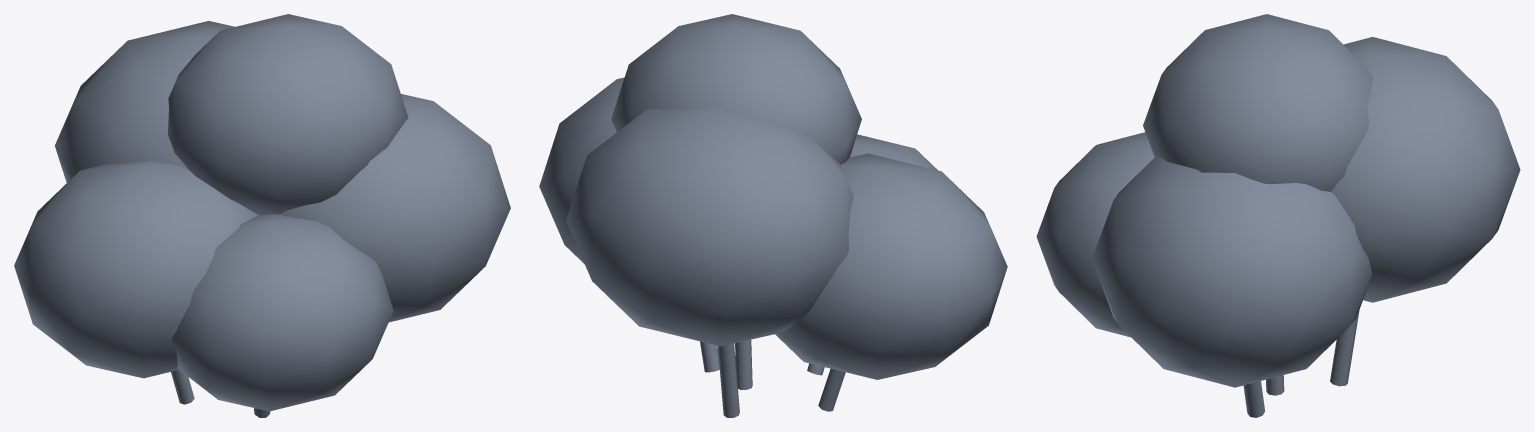
The model's file is garden-shrub-lite.glb.
3 renders of one model, left to right at view 1: azimuth 30°, elevation 25°; view 2: azimuth 150°, elevation 25°; view 3: azimuth 270°, elevation 25°, orthographic. The views are drawn at different scales.
Visible parts, largest first — view 1: garden-shrub; view 2: garden-shrub; view 3: garden-shrub.
Boxes of the visible parts, left/top/right/bottom form: garden-shrub: left=14, top=14, right=510, bottom=417; garden-shrub: left=539, top=14, right=1007, bottom=417; garden-shrub: left=1036, top=14, right=1520, bottom=417.
Size of the model in its own units: 0.95 by 0.72 by 0.85.
